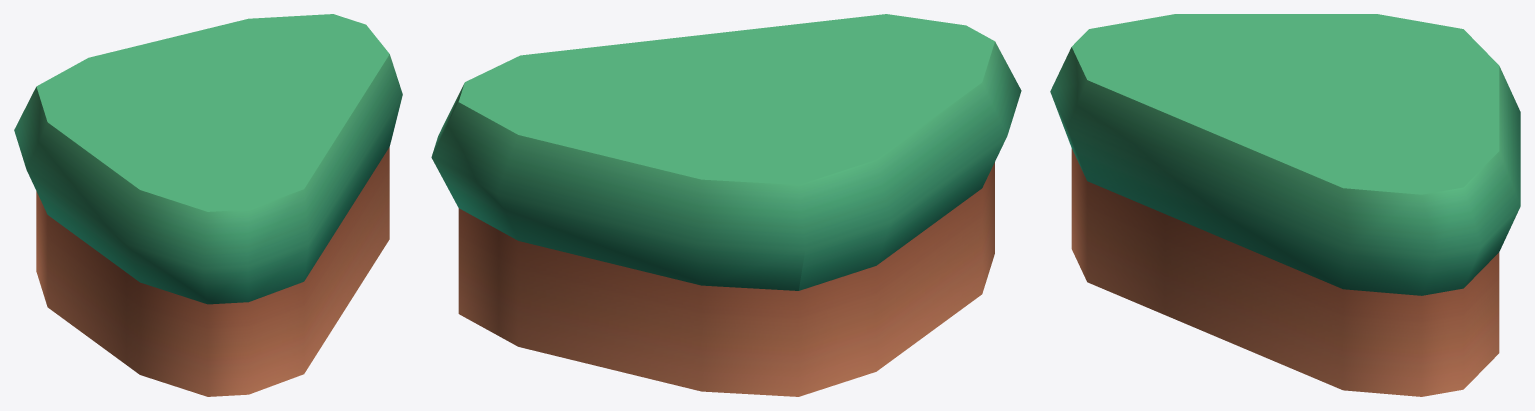
The model's file is kenney-platformer-block-grass-corner-low.glb.
The picture shows the model from 3 angles, left to right: view 1: azimuth 30°, elevation 25°; view 2: azimuth 150°, elevation 25°; view 3: azimuth 270°, elevation 25°; orthographic projection. The views are drawn at different scales.
Parts seen in each view (by area): view 1: block-grass-corner-low; view 2: block-grass-corner-low; view 3: block-grass-corner-low.
Part boxes in pixels (x1,y1,x2,y2): block-grass-corner-low: (14,14,402,396); block-grass-corner-low: (431,14,1021,396); block-grass-corner-low: (1050,14,1520,396).
Bounding box in the file's own units: 1.05 × 0.5 × 1.05.
Materials: 1 (1 with a texture image).
